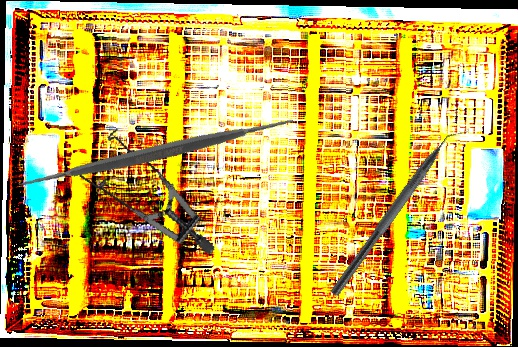Chopper: (328, 116, 473, 307)
Spatula Surgical: (7, 3, 305, 302)
Speculum: (63, 111, 217, 286)
